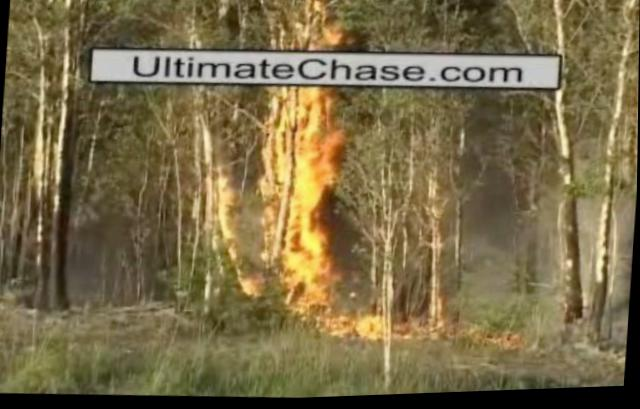fire: (165, 0, 469, 357)
